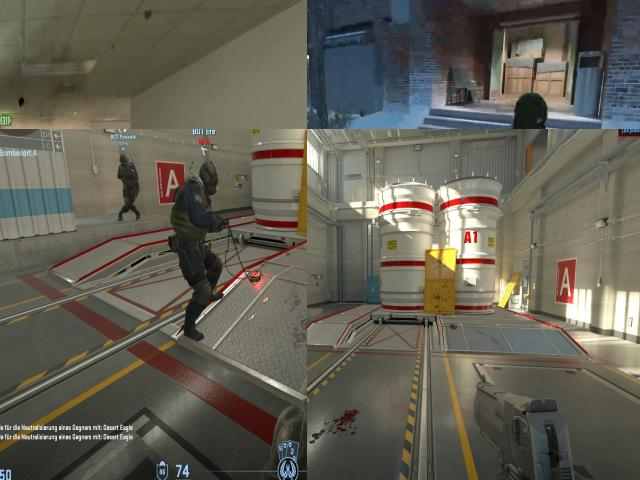Bomb: (247, 268, 265, 290), (448, 321, 459, 330)
CT: (175, 164, 216, 316), (121, 150, 137, 215)
CT-Head: (200, 163, 218, 192), (120, 153, 130, 167)
T-Head: (503, 90, 554, 129)
